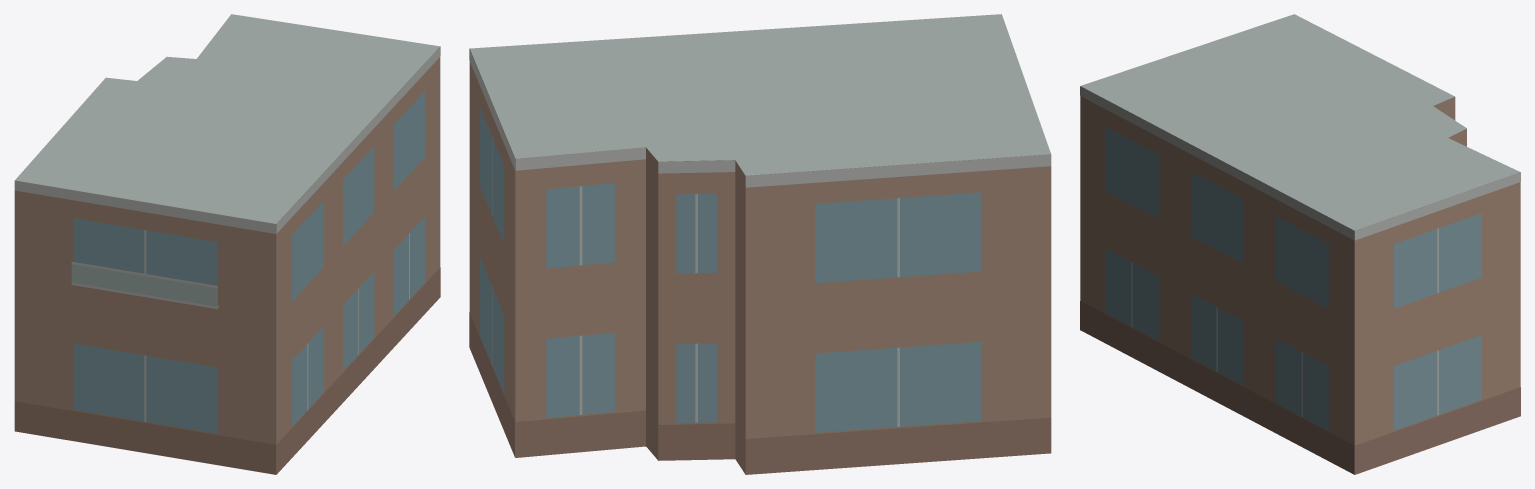
Rendered from survey-upis-32900978.glb.
3 renders of one model, left to right at view 1: azimuth 30°, elevation 25°; view 2: azimuth 150°, elevation 25°; view 3: azimuth 270°, elevation 25°, orthographic. The views are drawn at different scales.
Parts seen in each view (by area): view 1: survey-upis-32900978.tmp; view 2: survey-upis-32900978.tmp; view 3: survey-upis-32900978.tmp.
Boxes of the visible parts, left/top/right/bottom form: survey-upis-32900978.tmp: left=14, top=14, right=440, bottom=474; survey-upis-32900978.tmp: left=469, top=14, right=1051, bottom=474; survey-upis-32900978.tmp: left=1080, top=14, right=1520, bottom=474.
Bounding box in the file's own units: 11.63 × 6.1 × 9.99.
